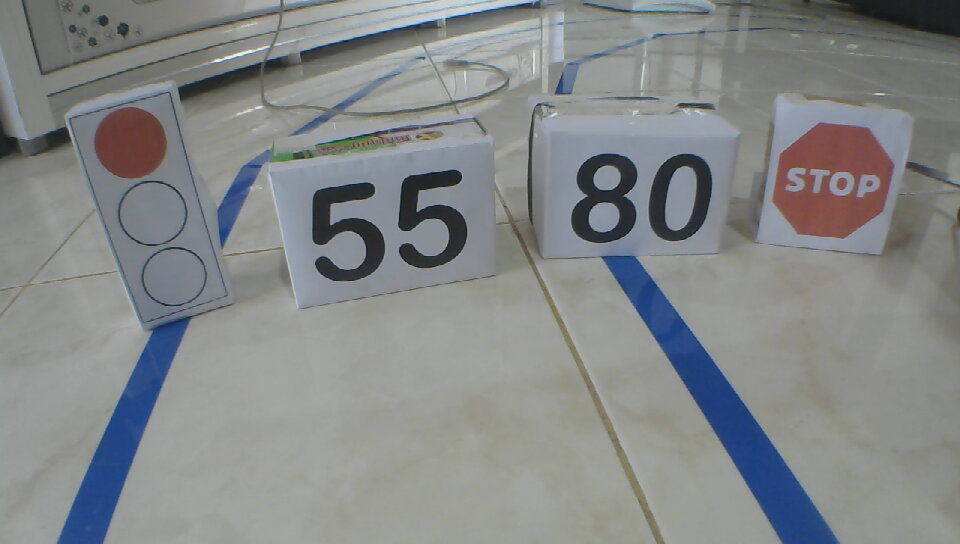Red Light: (93, 102, 210, 312)
Speed 55: (310, 169, 468, 282)
Speed 80: (568, 151, 714, 244)
Stop: (773, 122, 894, 241)
